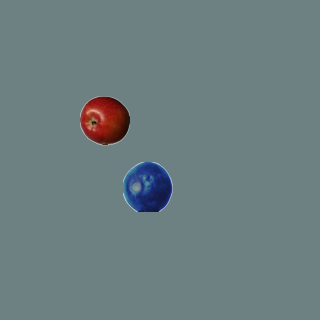Apple Braeburn: (79, 95, 129, 145)
Huckleberry: (122, 161, 172, 211)
